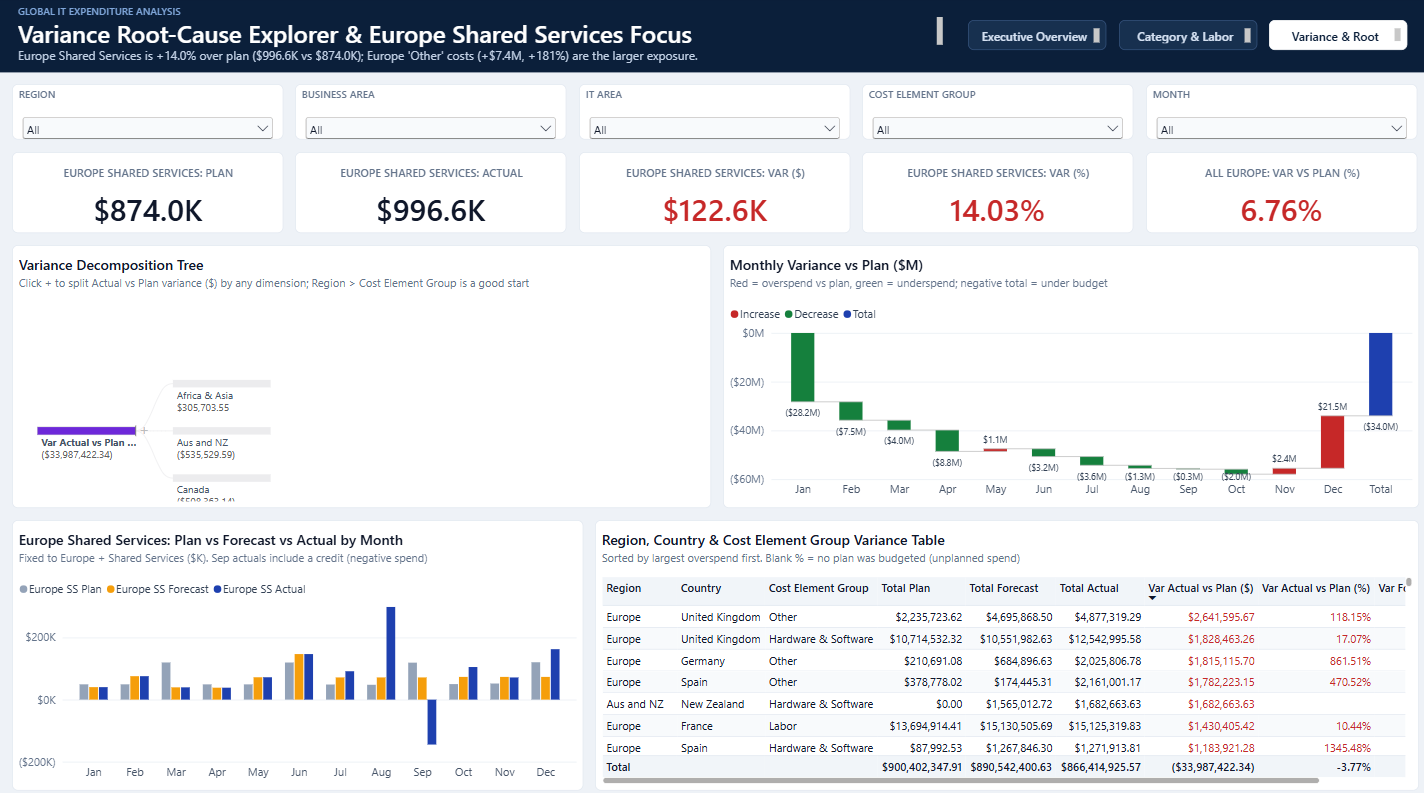

This screenshot's page, from the dashboard's own definition file:
{"tool":"powerbi","page":{"name":"Variance & Root Cause","canvas":[1920,1080],"ordinal":2},"visuals":[{"type":"textbox","box":[0,0,1920,100],"z":0},{"type":"textbox","box":[32,8,700,22],"z":1000},{"type":"textbox","box":[32,26,1230,40],"z":2000},{"type":"textbox","box":[32,66,1240,28],"z":3000},{"type":"textbox","box":[1296,30,184,40],"z":4000},{"type":"actionButton","box":[1296,30,184,40],"z":5000},{"type":"textbox","box":[1496,30,184,40],"z":6000},{"type":"actionButton","box":[1496,30,184,40],"z":7000},{"type":"textbox","box":[1696,30,184,40],"z":8000},{"type":"actionButton","box":[1696,30,184,40],"z":9000},{"type":"slicer","title":"REGION","fields":{"Values":["IT_Expenditure.Region"]},"box":[24,116,361,74],"z":10000},{"type":"slicer","title":"BUSINESS AREA","fields":{"Values":["IT_Expenditure.Business Area"]},"box":[401,116,361,74],"z":11000},{"type":"slicer","title":"IT AREA","fields":{"Values":["IT_Expenditure.IT Area"]},"box":[778,116,361,74],"z":12000},{"type":"slicer","title":"COST ELEMENT GROUP","fields":{"Values":["IT_Expenditure.Cost Element Group"]},"box":[1155,116,361,74],"z":13000},{"type":"slicer","title":"MONTH","fields":{"Values":["IT_Expenditure.Month"]},"box":[1532,116,361,74],"z":14000},{"type":"card","title":"EUROPE SHARED SERVICES: PLAN","fields":{"Values":["Analysis.Europe SS Plan"]},"box":[24,206,361,108],"z":15000},{"type":"card","title":"EUROPE SHARED SERVICES: ACTUAL","fields":{"Values":["Analysis.Europe SS Actual"]},"box":[401,206,361,108],"z":16000},{"type":"card","title":"EUROPE SHARED SERVICES: VAR ($)","fields":{"Values":["Analysis.Europe SS Var ($)"]},"box":[778,206,361,108],"z":17000},{"type":"card","title":"EUROPE SHARED SERVICES: VAR (%)","fields":{"Values":["Analysis.Europe SS Var (%)"]},"box":[1155,206,361,108],"z":18000},{"type":"card","title":"ALL EUROPE: VAR VS PLAN (%)","fields":{"Values":["Analysis.Europe Var (%)"]},"box":[1532,206,361,108],"z":19000},{"type":"decompositionTreeVisual","title":"Variance Decomposition Tree","fields":{"Analyze":["Analysis.Var Actual vs Plan ($)"],"ExplainBy":["IT_Expenditure.Region","IT_Expenditure.Cost Element Group","IT_Expenditure.IT Area","IT_Expenditure.Business Area","IT_Expenditure.Country","IT_Expenditure.Cost Element Sub Group","IT_Expenditure.IT Sub Area"]},"box":[24,330,930,350],"z":20000},{"type":"waterfallChart","title":"Monthly Variance vs Plan ($M)","fields":{"Category":["IT_Expenditure.Month"],"Y":["Analysis.Var Actual vs Plan ($)"]},"box":[970,330,926,350],"z":21000},{"type":"clusteredColumnChart","title":"Europe Shared Services: Plan vs Forecast vs Actual by Month","fields":{"Category":["IT_Expenditure.Month"],"Y":["Analysis.Europe SS Plan","Analysis.Europe SS Forecast","Analysis.Europe SS Actual"]},"box":[24,696,760,360],"z":22000},{"type":"tableEx","title":"Region, Country & Cost Element Group Variance Table","fields":{"Values":["IT_Expenditure.Region","IT_Expenditure.Country","IT_Expenditure.Cost Element Group","Analysis.Total Plan","Analysis.Total Forecast","Analysis.Total Actual","Analysis.Var Actual vs Plan ($)","Analysis.Var Actual vs Plan (%)","Analysis.Var Forecast vs Plan (%)"]},"box":[800,696,1096,360],"z":23000}]}

Visuals, with their boxes in screenshot pixels (x1, y1, x2, y2), scaled from the page's 1920x1080 canvas onto the 1424x793 screenshot:
textbox: [0,0,1423,73]
textbox: [24,6,543,22]
textbox: [24,19,936,48]
textbox: [24,48,943,69]
textbox: [961,22,1098,51]
actionButton: [961,22,1098,51]
textbox: [1110,22,1246,51]
actionButton: [1110,22,1246,51]
textbox: [1258,22,1394,51]
actionButton: [1258,22,1394,51]
"REGION" slicer: [18,85,286,140]
"BUSINESS AREA" slicer: [297,85,565,140]
"IT AREA" slicer: [577,85,845,140]
"COST ELEMENT GROUP" slicer: [857,85,1124,140]
"MONTH" slicer: [1136,85,1404,140]
"EUROPE SHARED SERVICES: PLAN" card: [18,151,286,231]
"EUROPE SHARED SERVICES: ACTUAL" card: [297,151,565,231]
"EUROPE SHARED SERVICES: VAR ($)" card: [577,151,845,231]
"EUROPE SHARED SERVICES: VAR (%)" card: [857,151,1124,231]
"ALL EUROPE: VAR VS PLAN (%)" card: [1136,151,1404,231]
"Variance Decomposition Tree" decompositionTreeVisual: [18,242,708,499]
"Monthly Variance vs Plan ($M)" waterfallChart: [719,242,1406,499]
"Europe Shared Services: Plan vs Forecast vs Actual by Month" clusteredColumnChart: [18,511,581,775]
"Region, Country & Cost Element Group Variance Table" tableEx: [593,511,1406,775]
